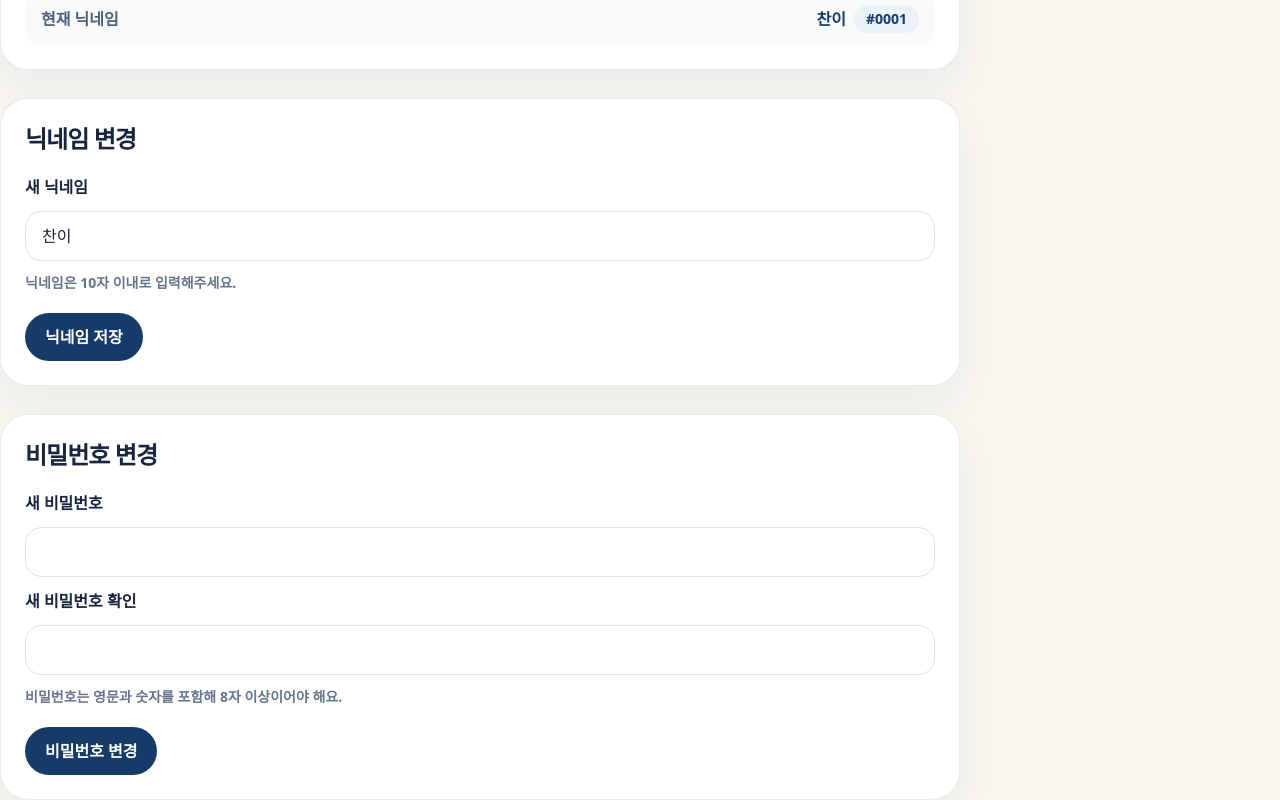
Test case: ProfilePage › changes the signed-in user's password
(page scrolled)
Expected: the field showing "찬이" is shown, top-left (25, 210), bottom-right (935, 260)
Type "safe1234!" into the password field labelled "새 비밀번호".
click(480, 552); type("safe1234!")  # box top-left (25, 526), bottom-right (935, 576)
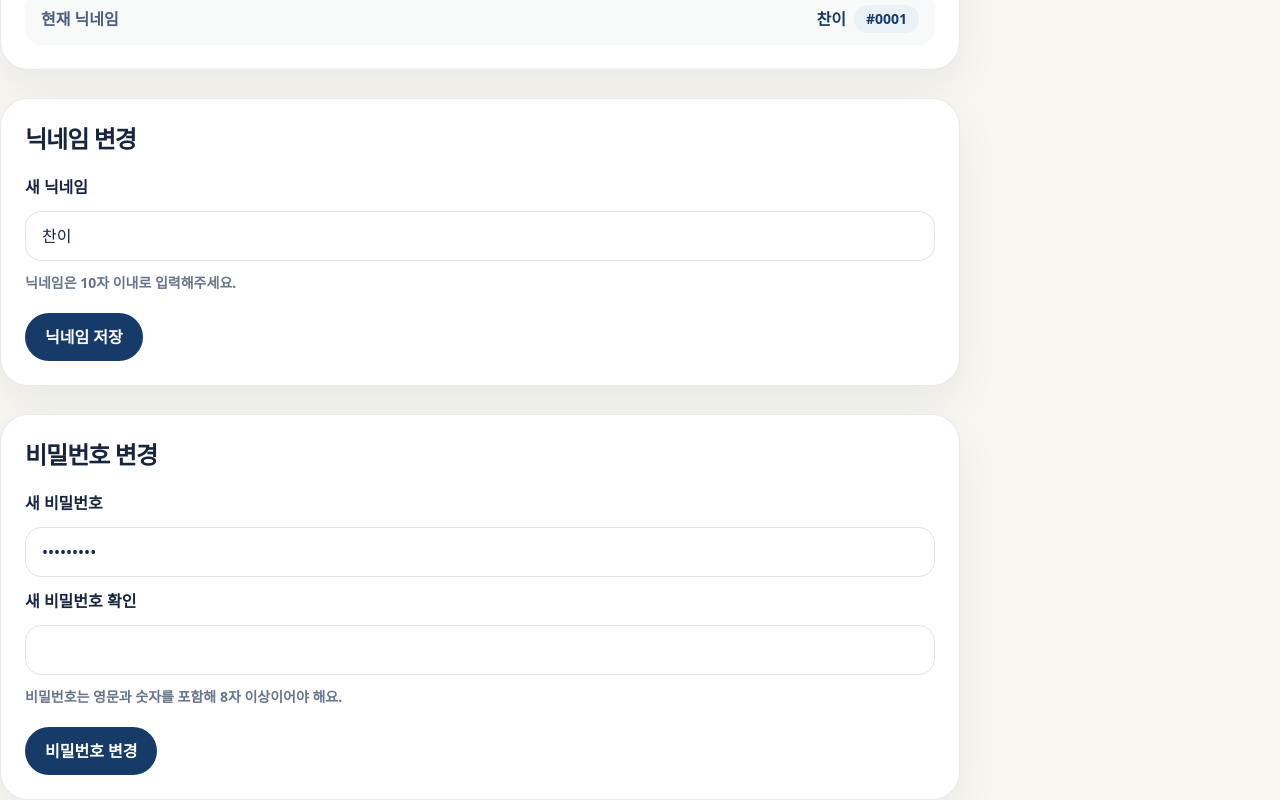
Type "safe1234!" into the password field labelled "새 비밀번호 확인".
click(480, 650); type("safe1234!")  # box top-left (25, 624), bottom-right (935, 674)
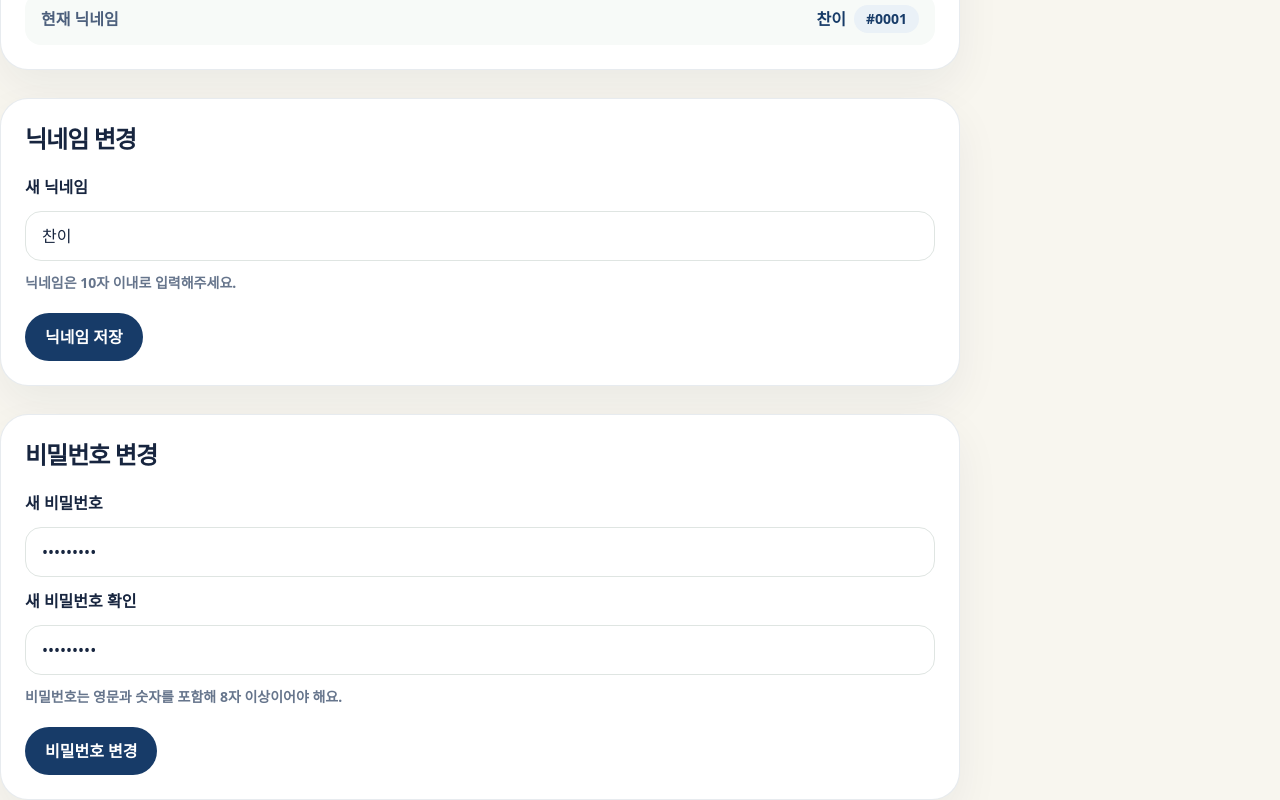
Click the button "비밀번호 변경".
click(91, 750)  # box top-left (25, 726), bottom-right (158, 774)
(page scrolled)
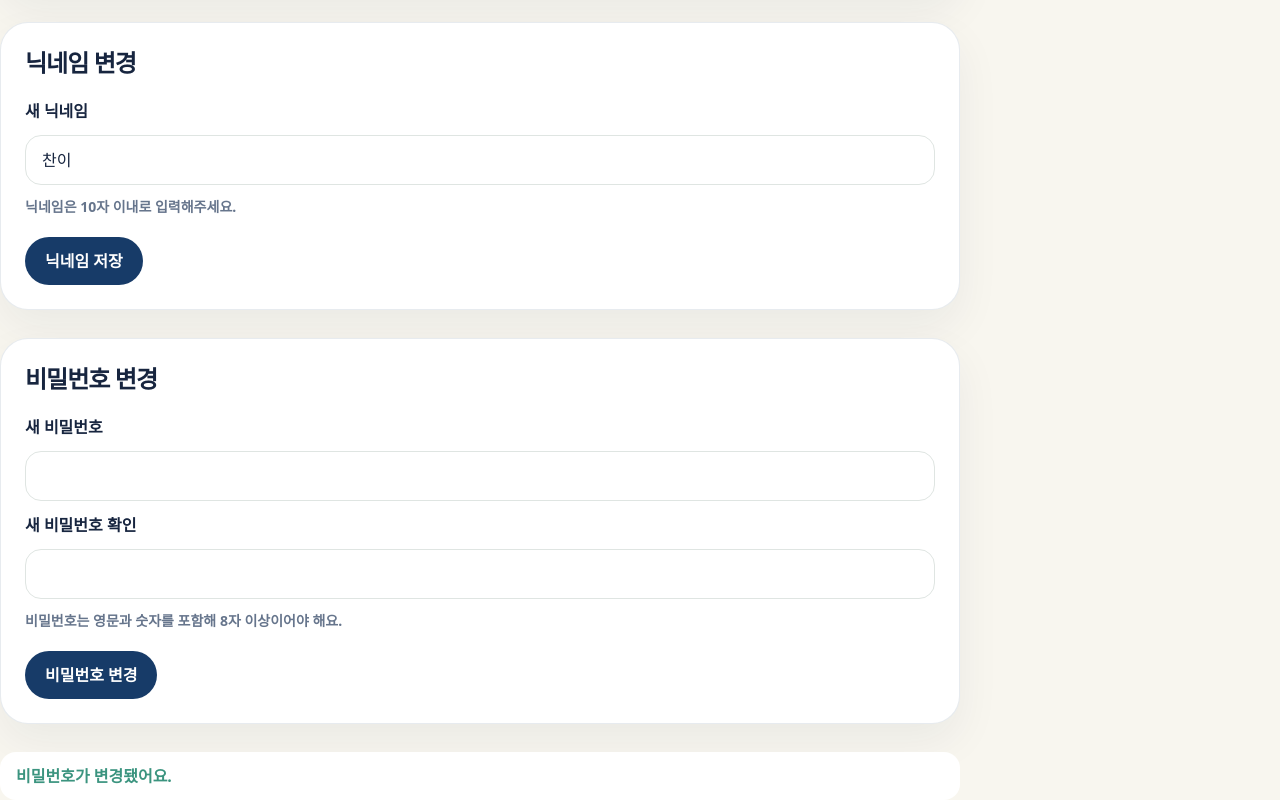
Result: the message reads "비밀번호가 변경됐어요." at top-left (16, 764), bottom-right (172, 786)
